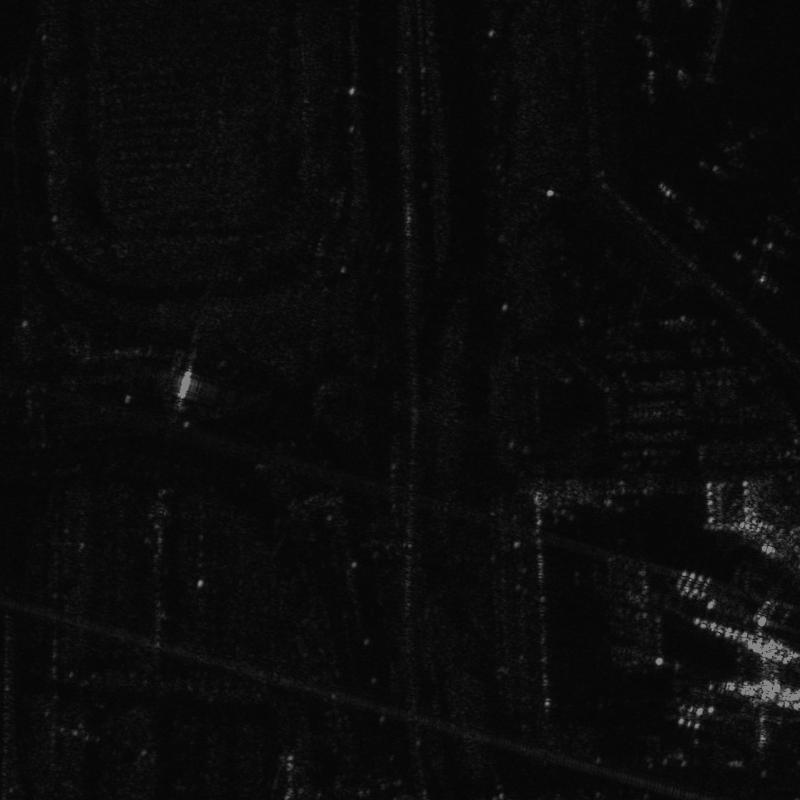A220: (694, 113, 777, 184)
